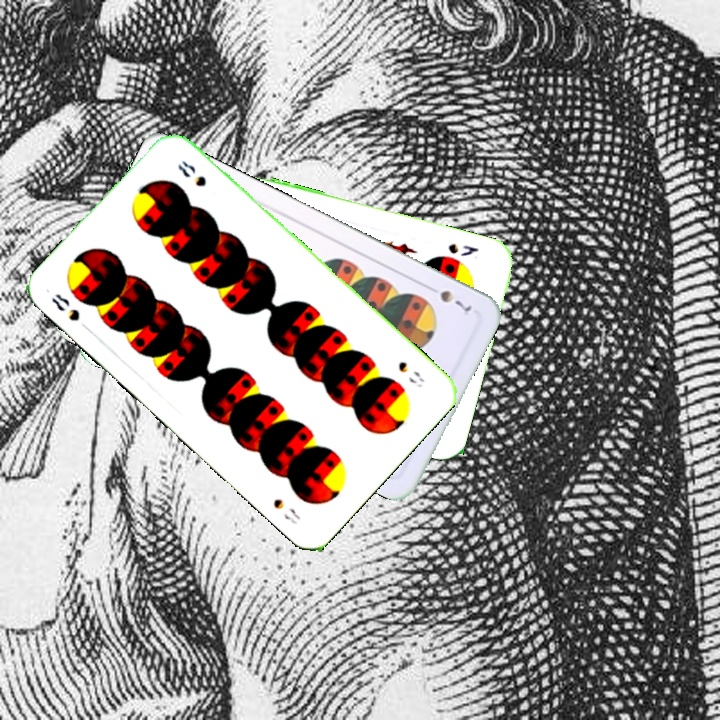S7: (422, 281, 475, 314)
S8: (47, 289, 83, 324), (394, 357, 427, 390)
SK: (444, 239, 481, 259)
